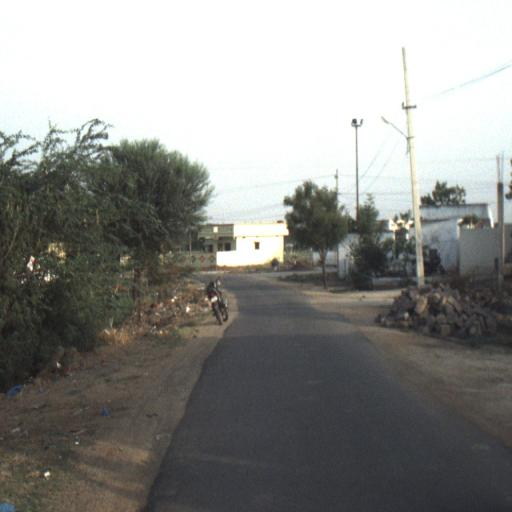street_light_0: (381, 114, 415, 155)
